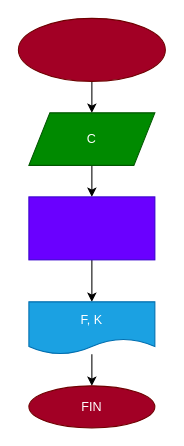
This 184x446 diagram has some shape labels left out. The shapes that lost their labels are listed below. From the top down, each one's box as (x1, y1, x2, y2) in pixels, then its label:
(17, 17, 165, 81): INICIO
(28, 196, 155, 260): F = 1.8C + 32 K= C + 273.15
